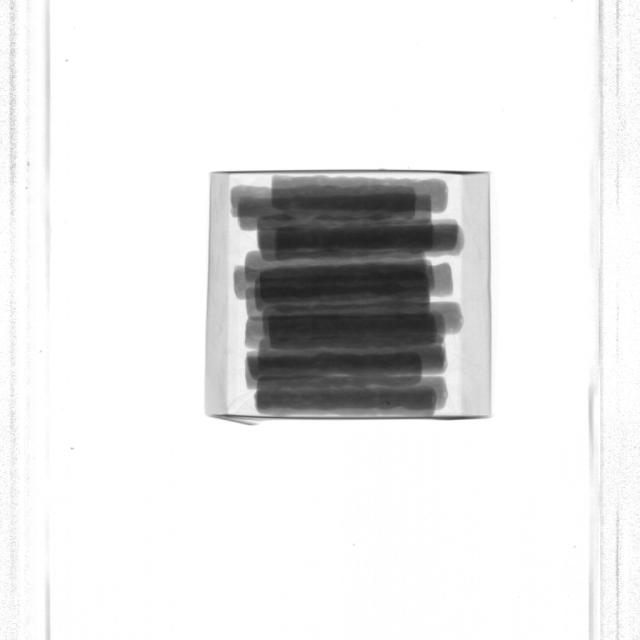ym: (387, 401, 391, 405)
